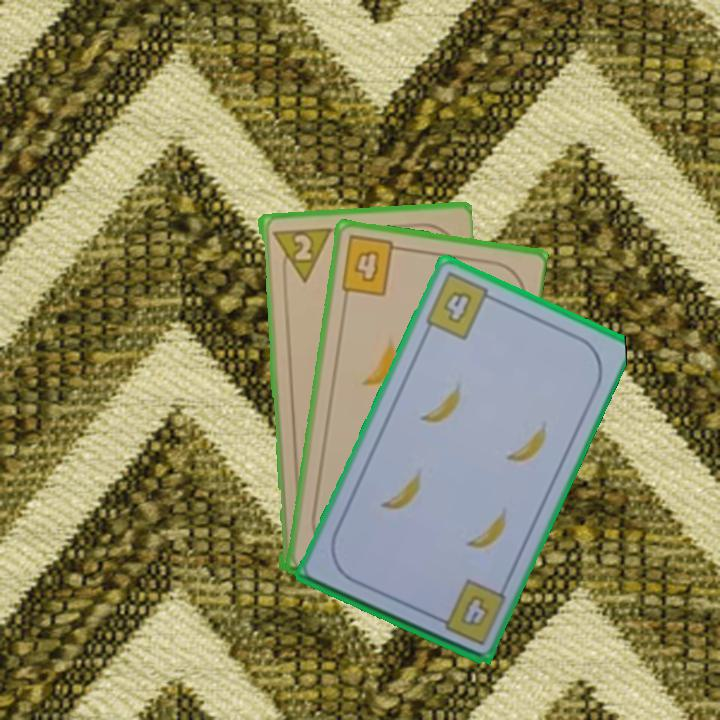2p: (267, 224, 332, 285)
4b: (421, 268, 500, 343), (429, 575, 509, 648), (337, 232, 406, 299)
